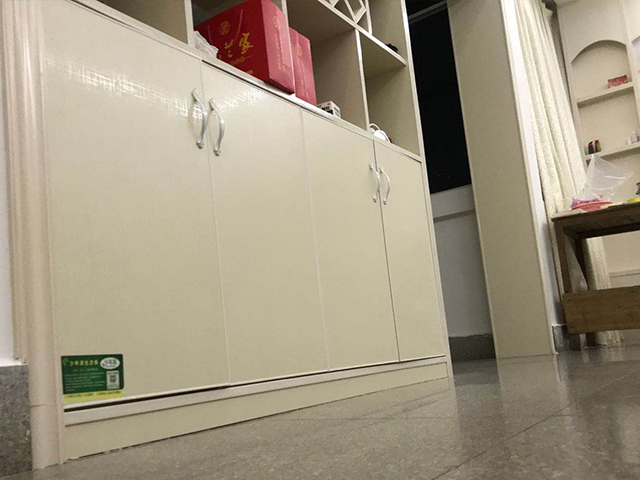cabinet: (1, 1, 448, 473)
curtain: (501, 1, 615, 352)
table: (551, 200, 640, 351)
